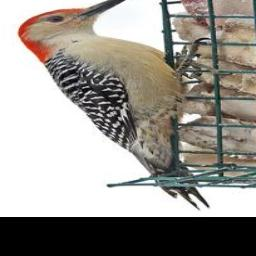Woodpecker: (18, 0, 212, 211)
